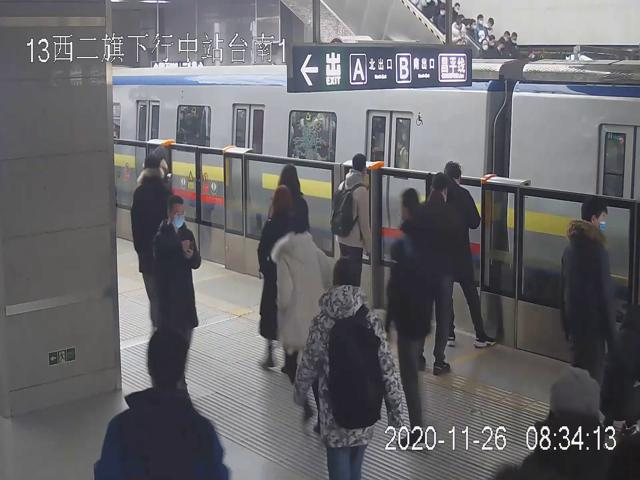person: (296, 255, 404, 480), (274, 198, 330, 415), (558, 196, 617, 382), (444, 160, 494, 348), (154, 198, 201, 368), (423, 172, 452, 373), (330, 153, 372, 284)
